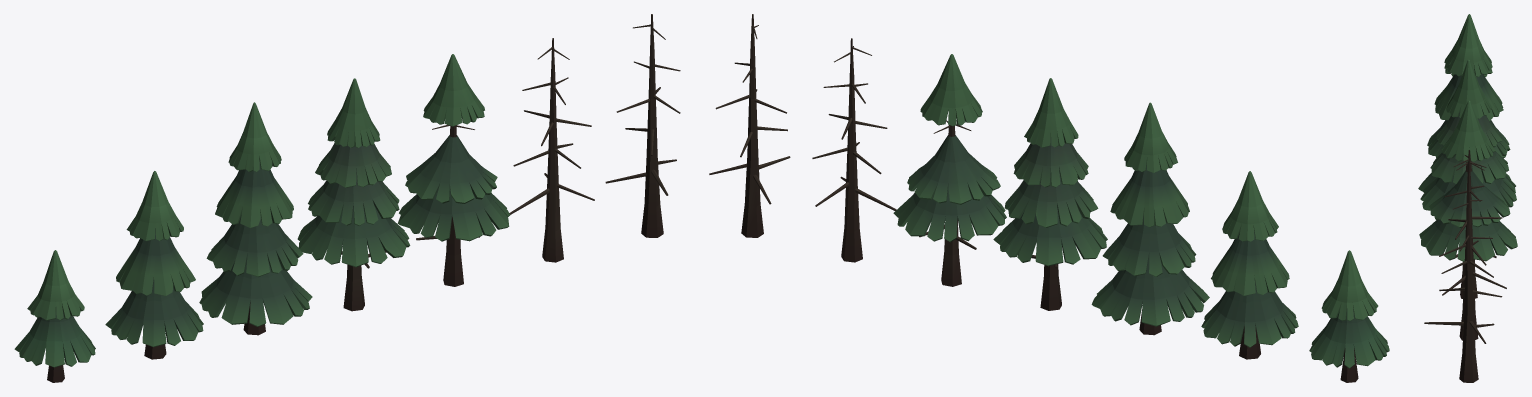
Rendered from final_trees_final.glb.
3 views of the same model, side by side, from view 1: azimuth 30°, elevation 25°; view 2: azimuth 150°, elevation 25°; view 3: azimuth 270°, elevation 25° (orthographic). The views are drawn at different scales.
Visible parts, largest first — view 1: mesh_tree_03, mesh_tree_04, mesh_tree_05, mesh_tree_02, mesh_tree_01, mesh_tree_06, mesh_tree_07; view 2: mesh_tree_03, mesh_tree_04, mesh_tree_05, mesh_tree_02, mesh_tree_01, mesh_tree_06, mesh_tree_07; view 3: mesh_tree_05, mesh_tree_04, mesh_tree_03, mesh_tree_07, mesh_tree_06, mesh_tree_02, mesh_tree_01.
Boxes of the visible parts, bbox=[...] form: mesh_tree_03: bbox=[199, 102, 312, 335]; mesh_tree_04: bbox=[297, 78, 410, 311]; mesh_tree_05: bbox=[397, 54, 510, 286]; mesh_tree_02: bbox=[105, 171, 203, 359]; mesh_tree_01: bbox=[14, 250, 95, 382]; mesh_tree_06: bbox=[509, 38, 594, 262]; mesh_tree_07: bbox=[605, 14, 680, 237]; mesh_tree_03: bbox=[1091, 102, 1209, 335]; mesh_tree_04: bbox=[993, 78, 1107, 310]; mesh_tree_05: bbox=[893, 54, 1006, 286]; mesh_tree_02: bbox=[1201, 171, 1298, 359]; mesh_tree_01: bbox=[1309, 250, 1389, 382]; mesh_tree_06: bbox=[812, 38, 896, 262]; mesh_tree_07: bbox=[709, 14, 790, 237]; mesh_tree_05: bbox=[1419, 100, 1517, 298]; mesh_tree_04: bbox=[1420, 59, 1516, 210]; mesh_tree_03: bbox=[1418, 17, 1515, 193]; mesh_tree_07: bbox=[1424, 191, 1502, 382]; mesh_tree_06: bbox=[1439, 150, 1506, 340]; mesh_tree_02: bbox=[1427, 14, 1510, 158]; mesh_tree_01: bbox=[1434, 65, 1503, 113].
Bounding box in the file's own units: 13.38 × 4.39 × 2.03.
